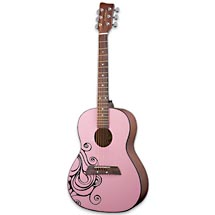guitar: (67, 1, 151, 213)
